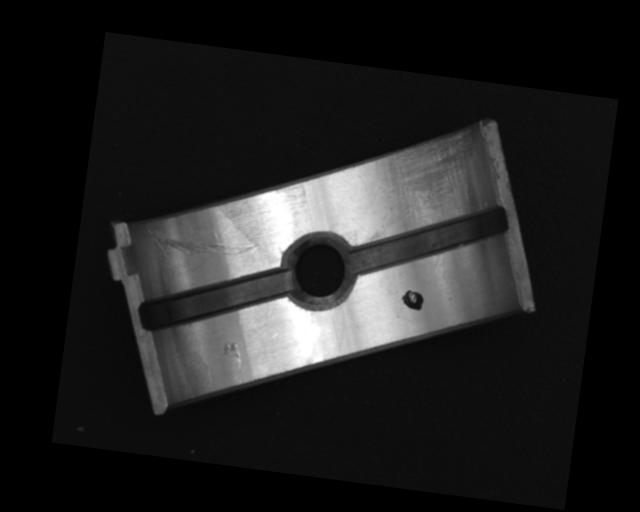blot: (399, 287, 426, 311)
bruise: (219, 340, 246, 372)
gap: (347, 186, 509, 293), (135, 251, 297, 348)
hole: (275, 224, 361, 314)
nick: (139, 224, 263, 282)
scratch: (365, 113, 480, 254)
